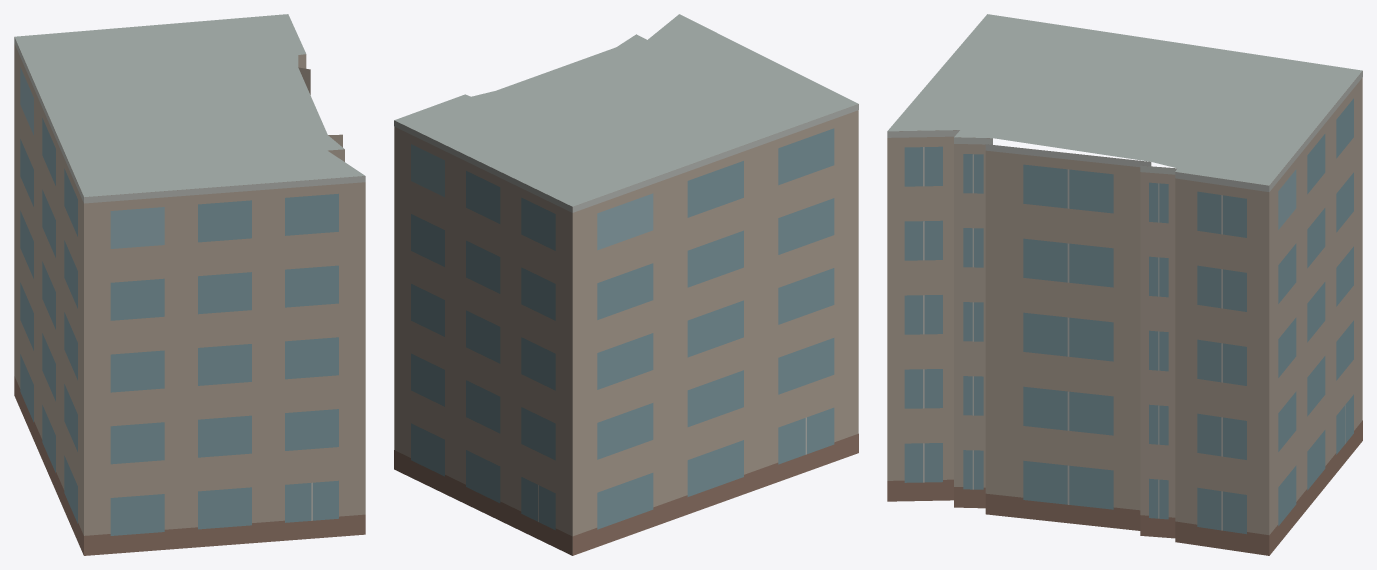
The model's file is survey-upis-32837021.glb.
3 renders of one model, left to right at view 1: azimuth 30°, elevation 25°; view 2: azimuth 150°, elevation 25°; view 3: azimuth 270°, elevation 25°, orthographic. The views are drawn at different scales.
Visible parts, largest first — view 1: survey-upis-32837021.tmp; view 2: survey-upis-32837021.tmp; view 3: survey-upis-32837021.tmp.
Part boxes in pixels (left/top/right/bottom): survey-upis-32837021.tmp: left=14, top=14, right=365, bottom=555; survey-upis-32837021.tmp: left=394, top=14, right=858, bottom=555; survey-upis-32837021.tmp: left=887, top=14, right=1362, bottom=555.
Bounding box in the file's own units: 13.73 × 13.8 × 16.08.
